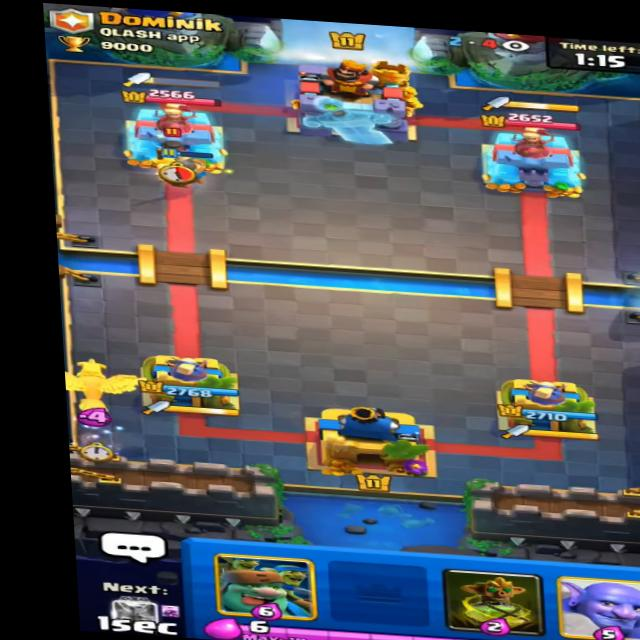ram-rider: (147, 126, 203, 179)
